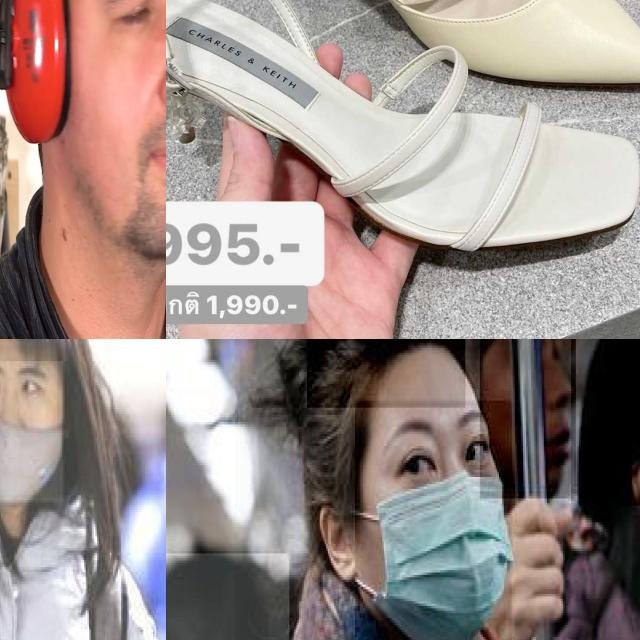Ear-protection: (0, 0, 166, 257)
No_Ear-Protection: (308, 497, 363, 589)
No_Glasses: (368, 398, 504, 495)
Sandals: (166, 0, 640, 314), (206, 0, 640, 124)
face_mask: (355, 400, 512, 640), (0, 361, 65, 505)
face_nomask: (480, 339, 576, 500)
hand_noglove: (497, 484, 574, 640)
head_nohelmet: (571, 339, 640, 507), (307, 339, 467, 410), (166, 553, 291, 640)
person: (234, 339, 609, 640), (0, 339, 166, 640)
